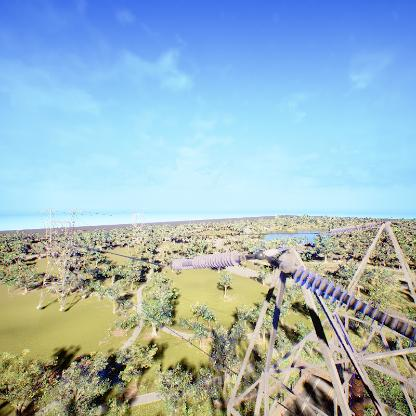insulator: (297, 260, 416, 343), (168, 250, 244, 272)
